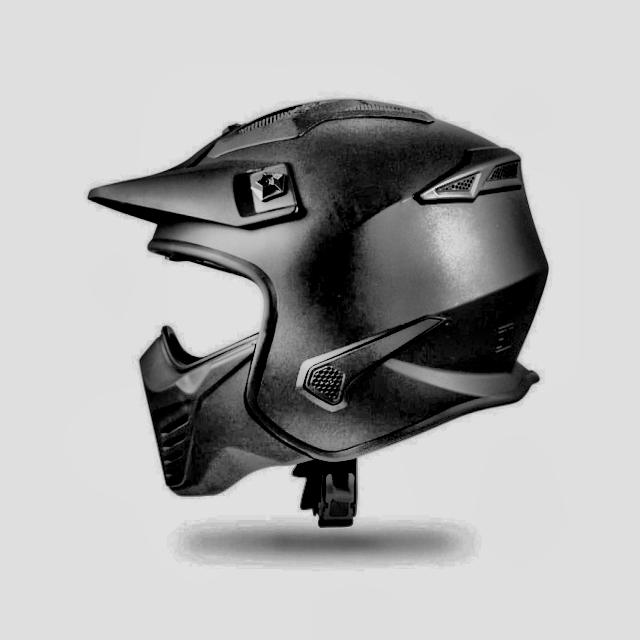Helmet: (74, 90, 565, 553)
